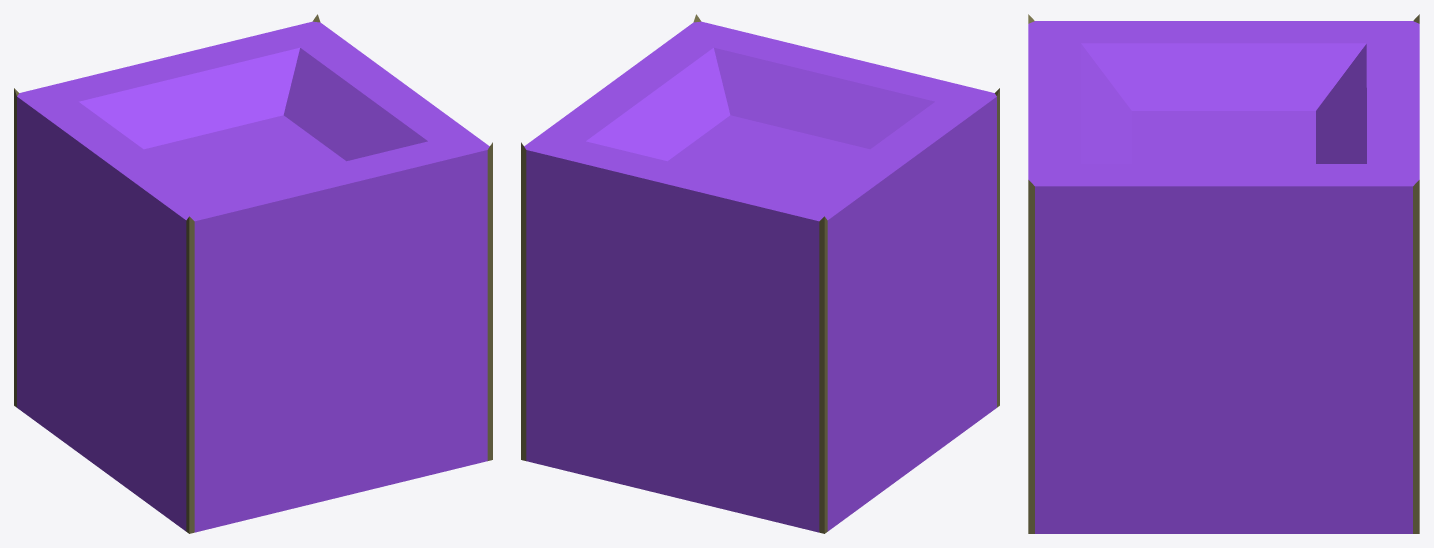
The model's file is tile_toxic_deep_1_02.fbx.
The picture shows the model from 3 angles, left to right: view 1: azimuth 30°, elevation 25°; view 2: azimuth 150°, elevation 25°; view 3: azimuth 270°, elevation 25°; orthographic projection. The views are drawn at different scales.
Visible parts, largest first — view 1: tile_toxic_deep_1_02; view 2: tile_toxic_deep_1_02; view 3: tile_toxic_deep_1_02.
Part boxes in pixels (x1,y1,x2,y2): tile_toxic_deep_1_02: [14, 14, 492, 533]; tile_toxic_deep_1_02: [521, 14, 999, 533]; tile_toxic_deep_1_02: [1028, 14, 1419, 533].
Bounding box in the file's own units: 100 × 100 × 100.
